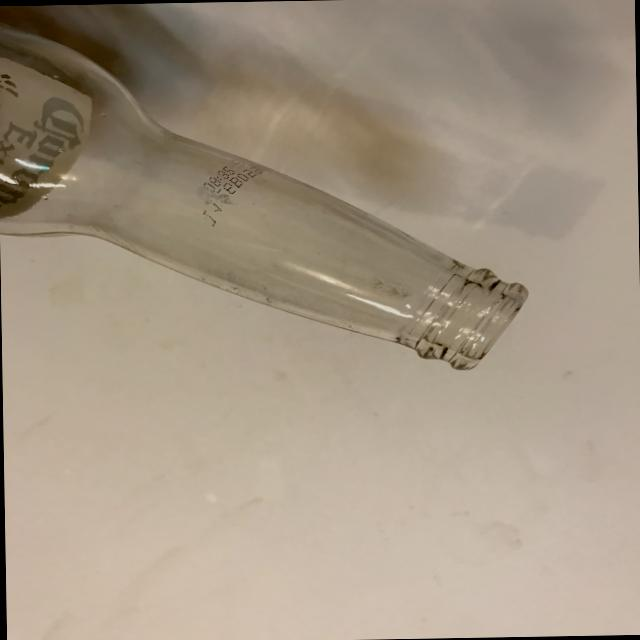Glass: (0, 0, 545, 396)
